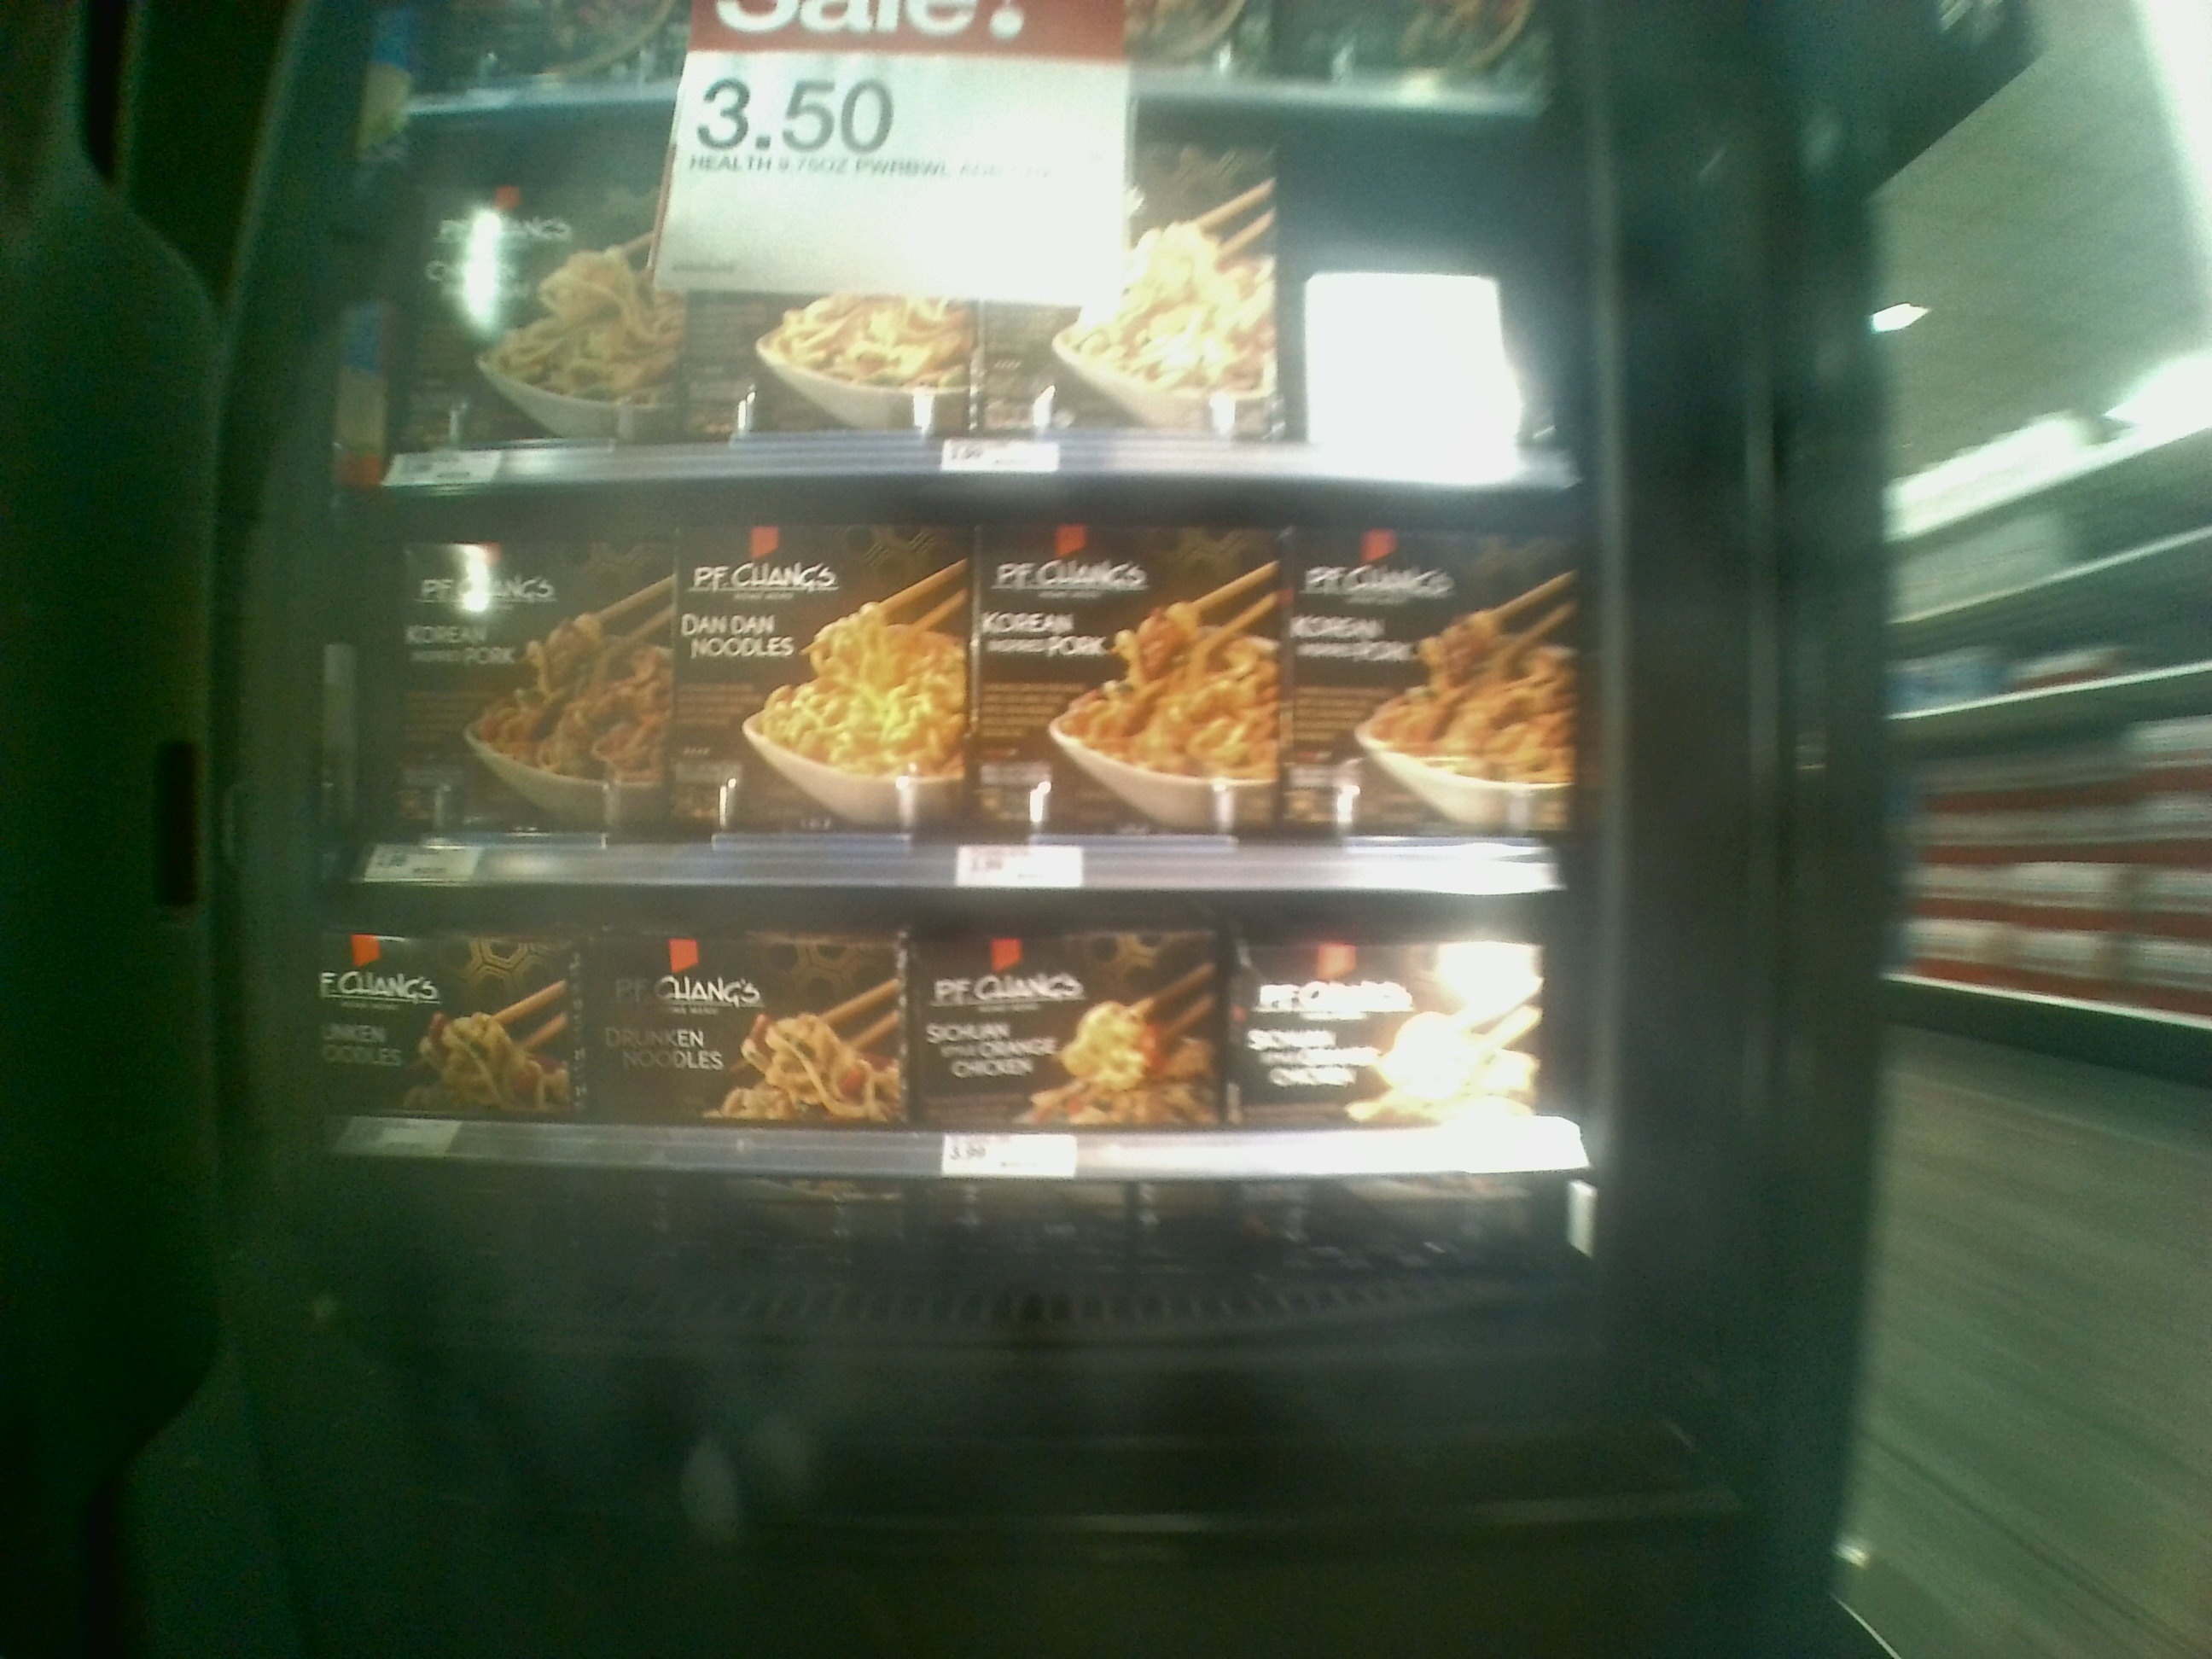shelf: (357, 471, 1562, 887)
